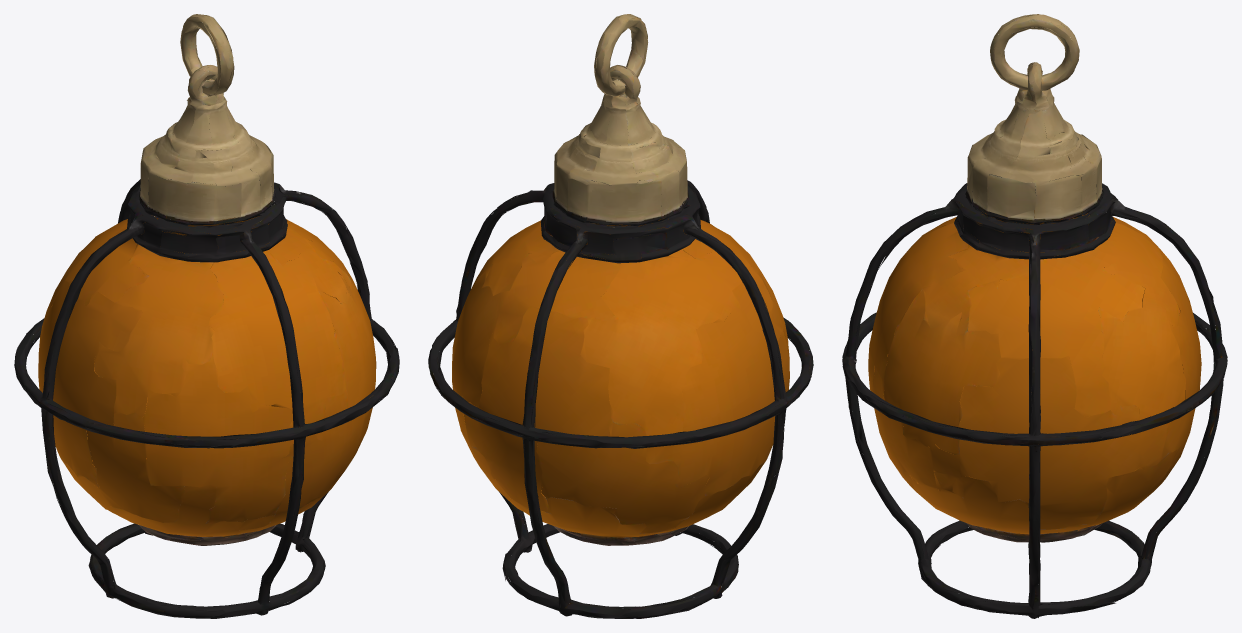
File: tool-scale.glb
3 renders of one model, left to right at view 1: azimuth 30°, elevation 25°; view 2: azimuth 150°, elevation 25°; view 3: azimuth 270°, elevation 25°, orthographic.
Visible parts, largest first — view 1: Mesh_0; view 2: Mesh_0; view 3: Mesh_0.
Part boxes in pixels (x1=…): Mesh_0: x1=14, y1=14, x2=399, y2=618; Mesh_0: x1=428, y1=14, x2=813, y2=618; Mesh_0: x1=842, y1=14, x2=1227, y2=618.
Bounding box in the file's own units: 0.627 × 1 × 0.6263.
1 material, 1 textured.
